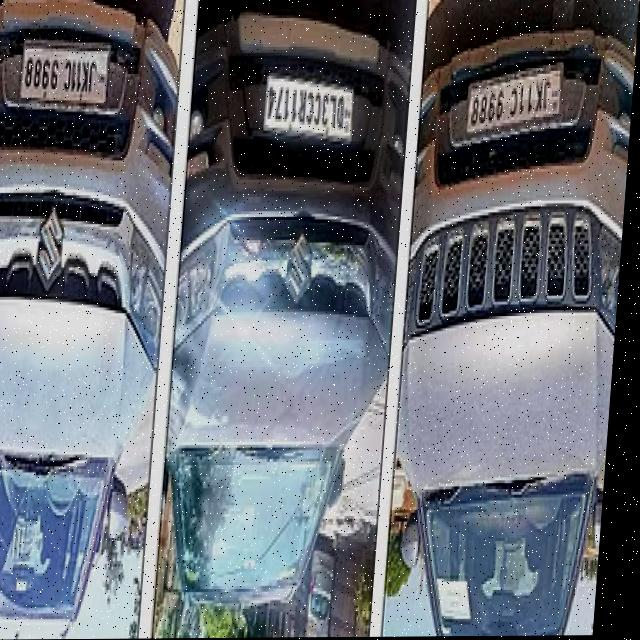plate: (462, 65, 570, 148), (10, 37, 117, 116), (255, 71, 358, 146)
